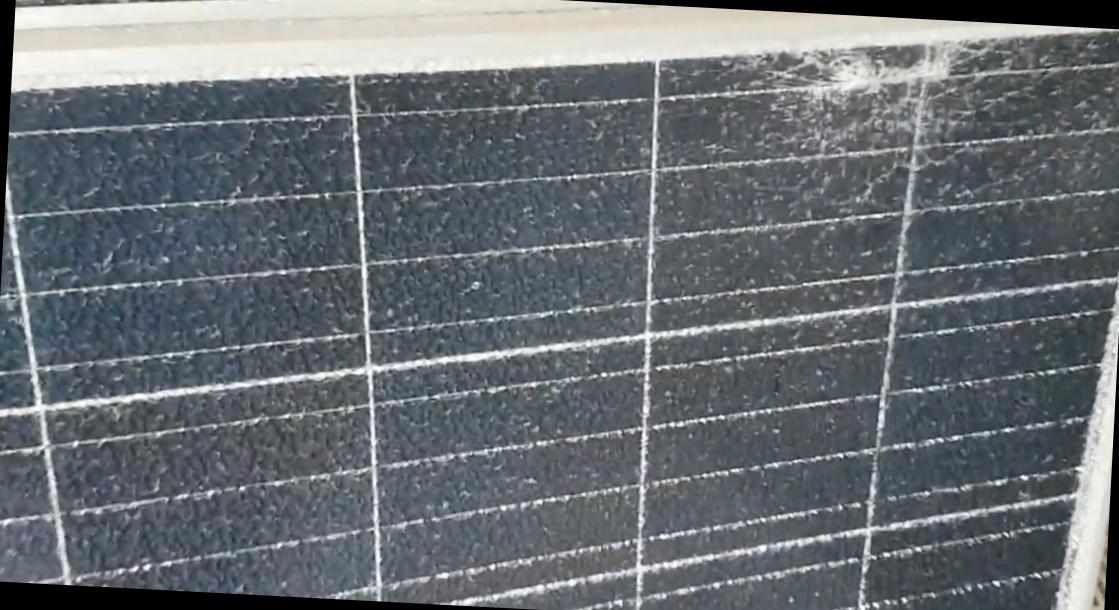Crack: (704, 16, 1026, 222)
